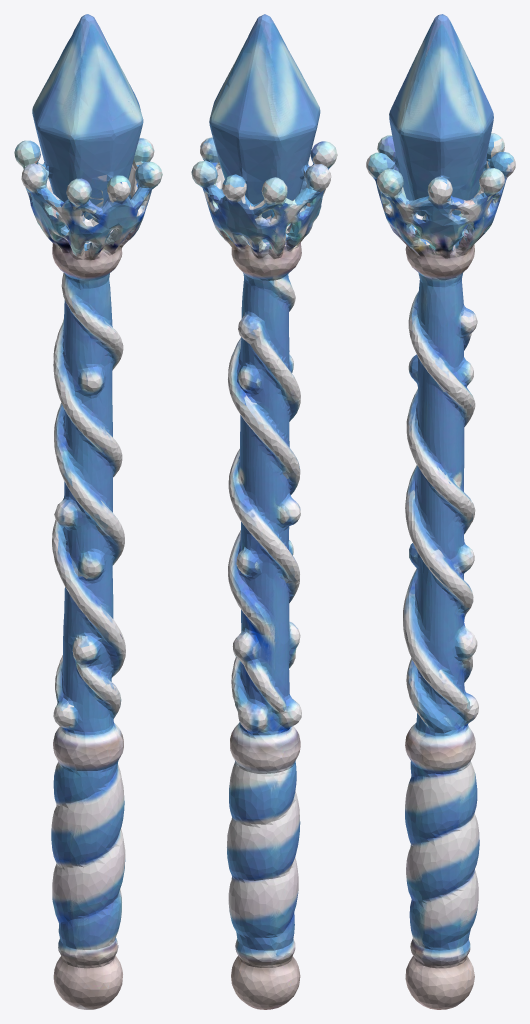
File: wand_frost.glb
The picture shows the model from 3 angles, left to right: view 1: azimuth 30°, elevation 25°; view 2: azimuth 150°, elevation 25°; view 3: azimuth 270°, elevation 25°; orthographic projection.
Visible parts, largest first — view 1: tmpgiwe67v_.ply; view 2: tmpgiwe67v_.ply; view 3: tmpgiwe67v_.ply.
Boxes of the visible parts, x1=… form: tmpgiwe67v_.ply: x1=14, y1=14, x2=162, y2=1009; tmpgiwe67v_.ply: x1=191, y1=14, x2=337, y2=1009; tmpgiwe67v_.ply: x1=366, y1=14, x2=515, y2=1009.
Size of the model in its own units: 0.1361 by 1 by 0.1367.
Materials: 1 (1 with a texture image).
